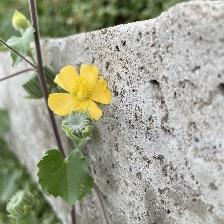indian mallow: (49, 62, 115, 120)
